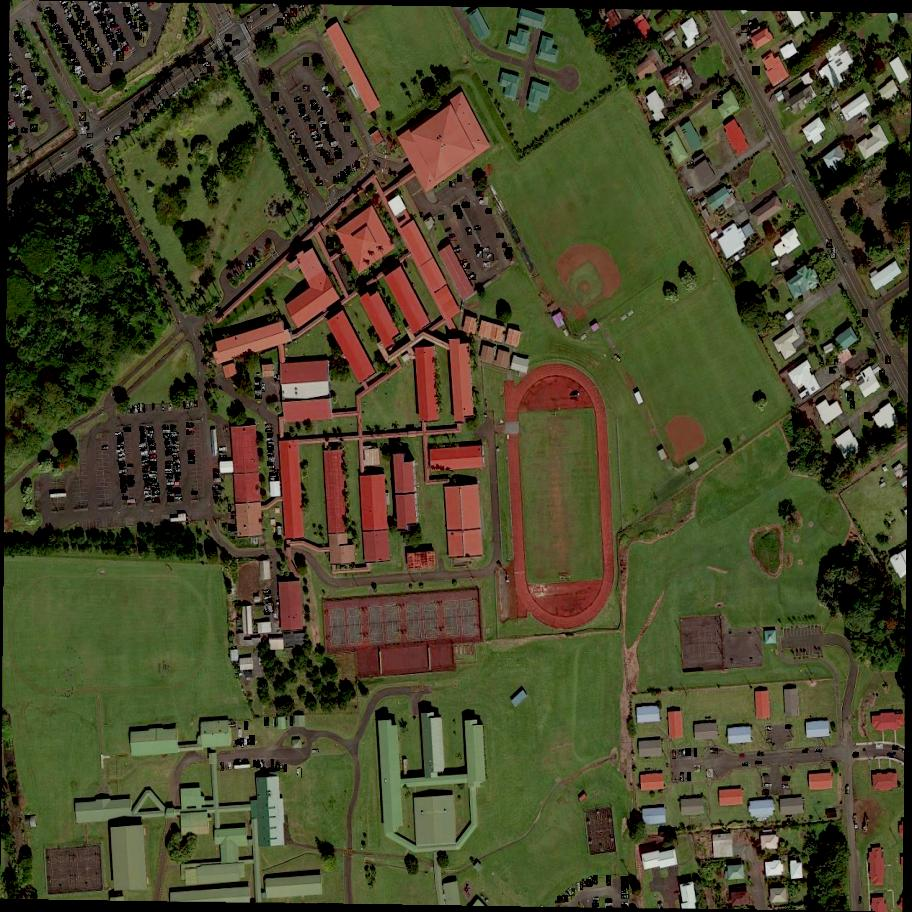small-vehicle: (271, 92, 281, 102), (85, 29, 95, 39), (614, 355, 625, 364), (326, 237, 334, 249), (847, 391, 856, 401), (115, 51, 124, 61), (748, 20, 759, 28), (268, 602, 275, 614), (752, 66, 761, 75), (480, 197, 489, 206), (162, 99, 171, 108), (156, 104, 165, 113), (283, 13, 292, 22), (30, 124, 39, 133), (741, 25, 750, 34), (113, 48, 122, 57), (506, 248, 513, 259), (315, 177, 324, 185), (453, 205, 462, 213), (476, 191, 485, 199), (317, 107, 325, 116), (334, 148, 342, 157), (249, 258, 257, 267), (15, 73, 24, 81), (22, 87, 30, 96), (68, 52, 77, 60), (48, 15, 56, 24), (122, 42, 130, 51), (134, 28, 143, 36), (123, 7, 131, 16), (82, 22, 91, 30), (274, 608, 280, 620), (314, 140, 324, 147), (565, 891, 572, 901), (59, 35, 69, 42), (265, 604, 272, 614), (301, 150, 309, 158), (302, 192, 310, 200), (247, 16, 255, 24), (225, 34, 233, 42), (199, 58, 207, 66), (208, 67, 216, 75), (277, 19, 285, 27), (327, 158, 335, 166), (291, 9, 299, 17), (115, 136, 123, 144), (38, 77, 46, 85), (14, 32, 22, 40), (707, 769, 715, 777), (67, 49, 75, 57), (62, 41, 70, 49), (94, 66, 102, 74), (142, 24, 150, 32), (134, 10, 142, 18), (95, 48, 103, 56), (79, 16, 87, 24), (107, 34, 115, 42), (77, 13, 85, 21), (334, 176, 341, 185), (340, 171, 347, 180), (303, 57, 310, 66), (476, 247, 483, 256), (449, 234, 458, 241), (200, 73, 209, 80), (172, 93, 181, 100), (144, 113, 151, 122), (313, 135, 322, 142), (246, 261, 253, 270), (79, 112, 86, 121), (17, 101, 26, 108), (826, 240, 833, 249), (862, 309, 869, 318), (586, 879, 593, 888), (557, 896, 566, 903), (52, 17, 59, 26), (135, 33, 144, 40), (85, 26, 92, 35), (425, 703, 431, 713), (712, 100, 718, 110), (269, 472, 279, 478), (292, 132, 299, 140), (304, 158, 312, 165), (303, 85, 311, 92), (477, 252, 485, 259), (488, 254, 495, 262), (469, 274, 477, 281), (266, 27, 274, 34), (316, 144, 324, 151), (322, 125, 330, 132), (331, 142, 339, 149), (336, 152, 343, 160), (323, 152, 331, 159), (9, 122, 16, 130), (49, 102, 57, 109), (34, 70, 42, 77), (87, 145, 95, 152), (24, 177, 32, 184), (562, 895, 570, 902), (687, 188, 695, 195), (694, 765, 702, 772), (133, 6, 141, 13), (57, 32, 65, 39), (80, 39, 88, 46), (76, 33, 84, 40), (73, 26, 81, 33), (71, 22, 79, 29), (74, 62, 81, 70), (75, 67, 83, 74), (101, 5, 109, 12), (117, 32, 124, 40), (111, 41, 118, 49), (128, 19, 136, 26), (126, 16, 134, 23), (139, 22, 147, 29), (139, 17, 147, 24), (64, 8, 72, 15), (81, 20, 88, 28), (97, 51, 105, 58), (88, 33, 95, 41), (71, 3, 79, 10), (338, 174, 344, 183), (260, 761, 266, 770), (740, 57, 746, 66), (31, 67, 40, 73), (886, 355, 892, 364), (569, 888, 575, 897), (680, 772, 686, 781), (685, 748, 691, 757), (118, 453, 127, 459), (168, 403, 174, 412), (606, 876, 611, 886), (244, 736, 249, 746), (299, 146, 306, 153), (352, 141, 359, 148), (345, 127, 352, 134), (486, 208, 493, 215), (464, 263, 471, 270), (178, 89, 185, 96), (27, 95, 34, 102), (18, 40, 25, 47), (70, 19, 77, 26), (66, 12, 73, 19), (120, 39, 127, 46), (110, 22, 117, 29), (101, 62, 108, 69), (91, 4, 98, 11), (102, 24, 109, 31), (326, 94, 334, 100), (457, 175, 463, 183), (150, 110, 158, 116), (320, 122, 328, 128), (310, 129, 318, 135), (309, 125, 317, 131), (301, 107, 307, 115), (298, 105, 306, 111), (299, 5, 307, 11), (14, 95, 22, 101), (21, 128, 29, 134), (12, 129, 20, 135), (84, 123, 90, 131), (80, 127, 86, 135), (60, 153, 68, 159), (12, 67, 20, 73), (687, 163, 695, 169), (621, 877, 629, 883), (682, 749, 688, 757), (710, 749, 718, 755), (70, 57, 78, 63), (56, 29, 64, 35), (93, 64, 101, 70), (87, 54, 95, 60), (124, 426, 132, 432), (117, 449, 125, 455), (119, 464, 127, 470), (82, 77, 88, 85), (104, 8, 112, 14), (130, 23, 138, 29), (137, 15, 145, 21), (108, 39, 116, 45), (76, 11, 84, 17), (98, 17, 106, 23), (139, 443, 147, 449), (173, 448, 181, 454), (352, 163, 357, 172), (276, 763, 281, 772), (868, 412, 873, 421), (782, 785, 791, 790), (219, 447, 228, 452), (173, 489, 182, 494), (250, 736, 255, 745), (297, 768, 302, 777), (270, 477, 279, 482), (134, 406, 139, 415), (340, 116, 346, 123), (279, 108, 286, 114), (456, 210, 463, 216), (454, 248, 461, 254), (194, 79, 201, 85), (325, 132, 332, 138), (329, 139, 336, 145), (325, 157, 332, 163), (13, 91, 20, 97), (34, 108, 41, 114), (695, 35, 702, 41), (15, 36, 22, 42), (25, 53, 32, 59), (17, 78, 24, 84), (21, 85, 28, 91), (887, 753, 894, 759), (879, 370, 886, 376), (829, 368, 836, 374), (864, 413, 870, 420), (48, 11, 55, 17), (91, 61, 98, 67), (89, 57, 96, 63), (85, 51, 92, 57), (80, 75, 87, 81), (114, 26, 121, 32), (99, 59, 106, 65), (93, 40, 99, 47), (91, 39, 98, 45), (97, 14, 104, 20), (100, 22, 107, 28), (106, 32, 113, 38), (265, 425, 272, 431), (483, 262, 491, 267), (311, 105, 319, 110), (232, 41, 240, 46), (257, 760, 262, 768), (320, 152, 328, 157), (876, 744, 884, 749), (605, 904, 613, 909), (621, 895, 629, 900), (850, 401, 855, 409), (765, 726, 773, 731), (72, 61, 80, 66), (61, 39, 69, 44), (44, 9, 52, 14), (83, 47, 91, 52), (117, 445, 125, 450), (120, 481, 128, 486), (255, 378, 263, 383), (219, 455, 227, 460), (238, 729, 243, 737), (152, 491, 160, 496), (145, 496, 153, 501), (163, 433, 171, 438), (133, 4, 139, 10), (303, 154, 309, 160), (290, 130, 296, 136), (449, 182, 455, 188), (11, 88, 17, 94), (24, 112, 30, 118), (10, 63, 16, 69), (83, 44, 89, 50), (139, 38, 145, 44), (113, 45, 119, 51), (62, 1, 68, 7), (94, 45, 100, 51), (140, 404, 144, 413), (240, 738, 245, 745), (337, 114, 344, 119), (322, 87, 329, 92), (463, 203, 470, 208), (453, 181, 458, 188), (302, 115, 309, 120), (25, 92, 32, 97), (834, 359, 839, 366), (54, 27, 61, 32), (74, 30, 81, 35), (119, 470, 126, 475), (132, 27, 139, 32), (99, 56, 106, 61), (74, 7, 81, 12), (189, 451, 196, 456), (175, 472, 182, 477), (174, 464, 181, 469), (269, 466, 276, 471), (269, 457, 276, 462), (148, 439, 155, 444), (145, 487, 152, 492), (143, 476, 150, 481), (173, 440, 180, 445), (171, 428, 178, 433), (165, 466, 172, 471), (294, 99, 302, 103), (877, 333, 881, 341), (592, 903, 600, 907), (594, 876, 598, 884), (687, 773, 691, 781), (117, 437, 125, 441), (119, 458, 127, 462), (124, 14, 132, 18), (264, 597, 272, 601), (151, 483, 159, 487), (168, 478, 176, 482), (306, 162, 312, 167), (350, 166, 355, 172), (356, 162, 361, 168), (457, 215, 463, 220), (327, 136, 333, 141), (832, 248, 835, 258), (65, 44, 71, 49), (79, 71, 84, 77), (117, 441, 123, 446), (122, 496, 128, 501), (68, 17, 74, 22), (274, 375, 280, 380), (267, 461, 273, 466), (266, 438, 272, 443), (173, 456, 179, 461), (149, 430, 155, 435), (345, 170, 349, 177), (497, 234, 504, 238), (323, 130, 330, 134), (141, 451, 148, 455), (188, 460, 195, 464), (214, 495, 221, 499), (186, 423, 193, 427), (255, 395, 262, 399), (267, 446, 274, 450), (150, 475, 157, 479), (149, 448, 156, 452), (150, 467, 157, 471), (162, 404, 166, 411), (165, 473, 172, 477), (589, 877, 592, 886), (245, 721, 248, 730), (311, 101, 316, 106), (261, 9, 266, 14), (317, 181, 323, 185), (475, 245, 481, 249), (284, 764, 287, 772), (220, 762, 223, 770), (312, 134, 318, 138), (718, 95, 724, 99), (606, 899, 612, 903), (621, 886, 629, 889), (580, 882, 583, 890), (833, 367, 839, 371), (766, 740, 772, 744), (52, 24, 58, 28), (127, 481, 135, 484), (127, 500, 135, 503), (120, 485, 126, 489), (120, 476, 128, 479), (119, 38, 125, 42), (109, 21, 115, 25), (108, 16, 114, 20), (94, 8, 100, 12), (255, 386, 261, 390), (214, 474, 220, 478), (255, 390, 261, 394), (228, 525, 236, 528), (265, 717, 268, 725), (167, 498, 173, 502), (151, 487, 159, 490), (168, 493, 174, 497), (190, 401, 194, 407), (461, 261, 468, 264), (318, 120, 325, 123), (42, 190, 49, 193), (621, 881, 628, 884), (577, 884, 580, 891), (573, 885, 576, 892), (673, 751, 676, 758), (783, 778, 790, 781), (115, 433, 122, 436), (214, 479, 221, 482), (187, 432, 194, 435), (149, 455, 156, 458), (150, 462, 157, 465), (150, 479, 157, 482), (163, 430, 170, 433), (165, 445, 172, 448), (295, 139, 300, 143), (308, 164, 313, 168), (300, 112, 305, 116), (893, 746, 898, 750), (851, 351, 856, 355), (122, 488, 126, 493), (102, 446, 107, 450), (104, 29, 109, 33), (256, 382, 261, 386), (175, 482, 180, 486), (291, 716, 293, 726), (268, 442, 273, 446), (142, 468, 147, 472), (168, 482, 173, 486), (338, 198, 344, 201), (475, 227, 481, 230), (483, 249, 489, 252), (204, 63, 210, 66), (312, 750, 318, 753), (272, 760, 274, 769), (584, 881, 587, 887), (695, 748, 697, 757), (757, 753, 763, 756), (816, 749, 822, 752), (237, 739, 240, 745), (128, 476, 134, 479), (94, 12, 100, 15), (141, 447, 147, 450), (228, 506, 231, 512), (175, 497, 181, 500), (262, 385, 265, 391), (264, 591, 270, 594), (228, 528, 237, 530), (150, 451, 156, 454), (150, 460, 156, 463), (195, 401, 198, 407), (187, 402, 190, 408), (347, 166, 349, 174), (502, 243, 506, 247), (439, 216, 443, 220), (854, 753, 858, 757), (116, 30, 120, 34), (145, 491, 149, 495), (138, 405, 140, 413), (163, 425, 167, 429), (165, 452, 173, 454), (165, 462, 173, 464), (310, 169, 315, 172), (280, 764, 283, 769), (73, 102, 76, 107), (87, 134, 92, 137), (31, 63, 34, 68), (785, 725, 790, 728), (214, 471, 219, 474), (220, 451, 225, 454), (173, 461, 178, 464), (150, 443, 155, 446), (153, 495, 158, 498), (143, 464, 148, 467), (173, 444, 178, 447), (765, 784, 772, 786), (680, 751, 682, 758), (755, 761, 762, 763), (142, 455, 149, 457), (150, 472, 157, 474), (153, 500, 160, 502), (145, 483, 152, 485), (142, 461, 149, 463), (131, 406, 133, 413), (468, 231, 472, 234), (254, 761, 256, 767), (228, 763, 231, 767), (622, 903, 626, 906), (762, 792, 768, 794), (803, 750, 807, 753), (119, 462, 125, 464), (119, 474, 125, 476), (213, 487, 219, 489), (191, 493, 197, 495), (186, 428, 192, 430), (175, 494, 181, 496), (172, 454, 178, 456), (268, 454, 274, 456), (265, 429, 271, 431), (147, 427, 153, 429), (148, 435, 154, 437), (171, 437, 177, 439), (171, 426, 175, 429), (152, 404, 154, 410), (234, 761, 239, 763), (234, 741, 236, 746), (743, 764, 748, 766), (127, 465, 132, 467), (189, 455, 194, 457), (230, 517, 235, 519), (268, 449, 273, 451), (140, 439, 143, 442), (108, 14, 111, 17), (274, 718, 275, 727), (466, 228, 470, 230), (622, 891, 626, 893), (845, 790, 847, 794), (741, 754, 745, 756), (140, 432, 144, 434), (140, 428, 144, 430), (129, 484, 133, 486), (176, 478, 180, 480), (268, 434, 272, 436), (165, 442, 169, 444), (171, 432, 178, 433), (859, 897, 860, 903), (248, 739, 249, 745), (166, 438, 172, 439), (594, 899, 599, 900), (141, 436, 146, 437), (169, 490, 174, 491), (166, 470, 171, 471), (167, 486, 171, 487), (167, 449, 171, 450), (173, 470, 177, 470)
